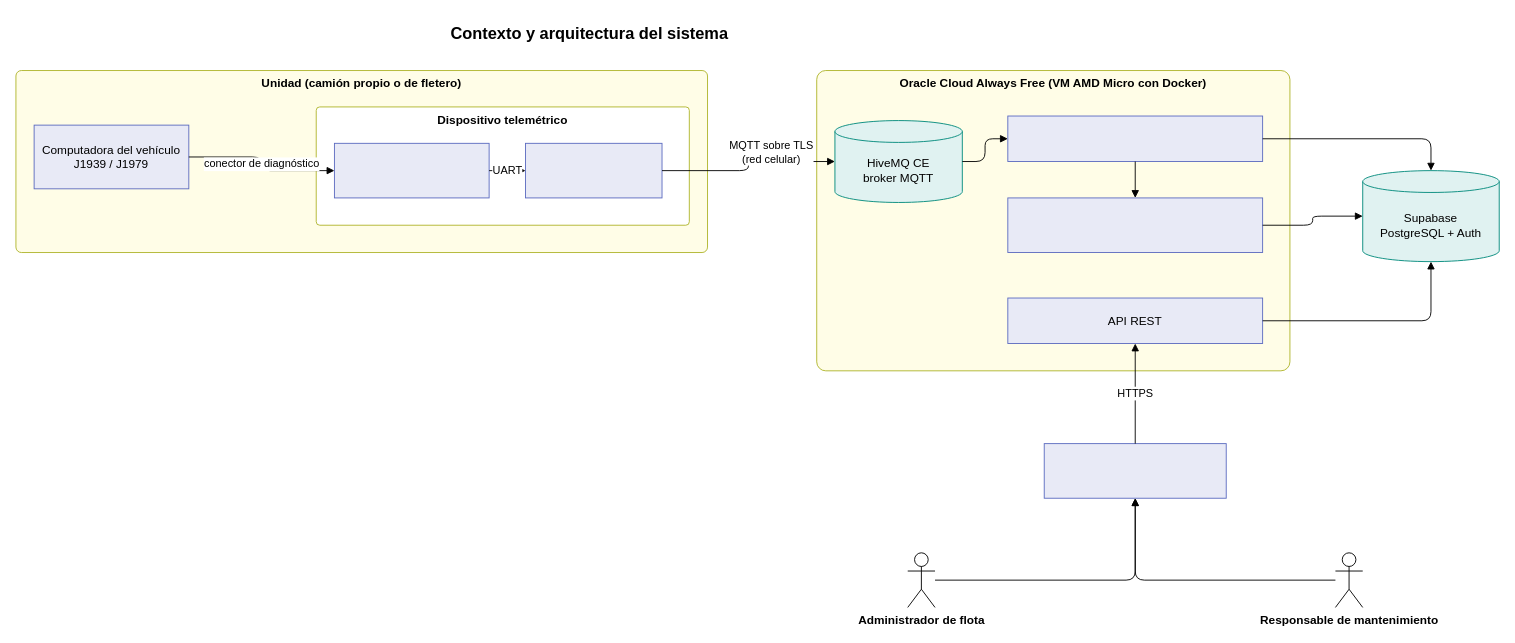
The diagram is 1515 pixels wide and 643 high, and some of its shapes have lost their labels. Each missing label, with the centre of its shape:
Dashboard web (React): the point at 1134,470
ESP32 + módulo 4G: the point at 593,170
Motor de mantenimiento y alertas: the point at 1135,225
Módulo de ingesta MQTT: the point at 1135,138
SparkFun OBD-II UART (STN1110): the point at 411,170
